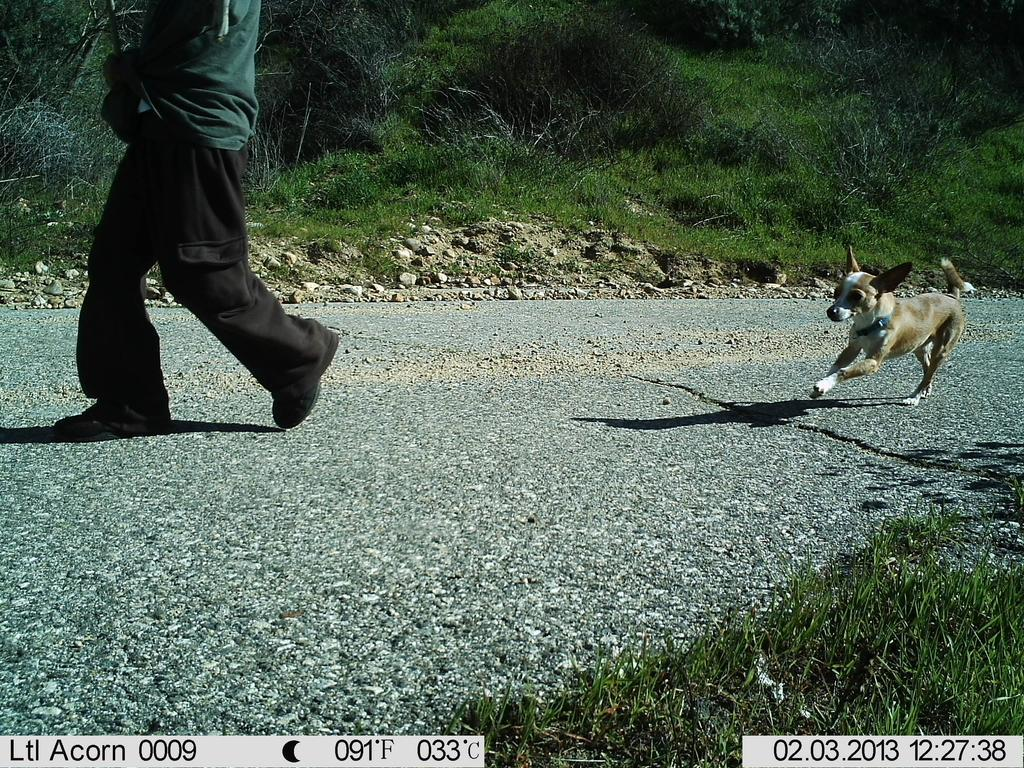dog: (808, 236, 1003, 405)
